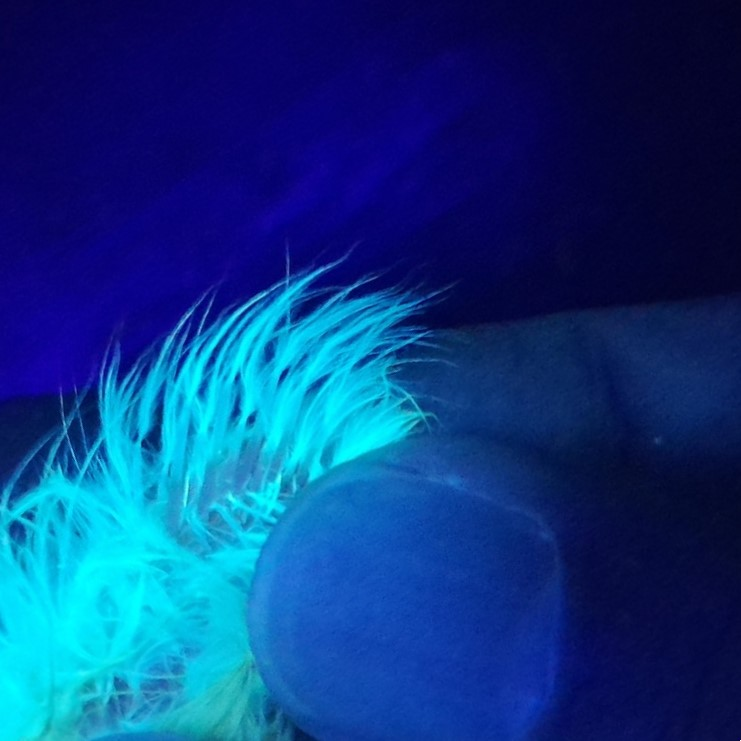male: (148, 338, 356, 554)
